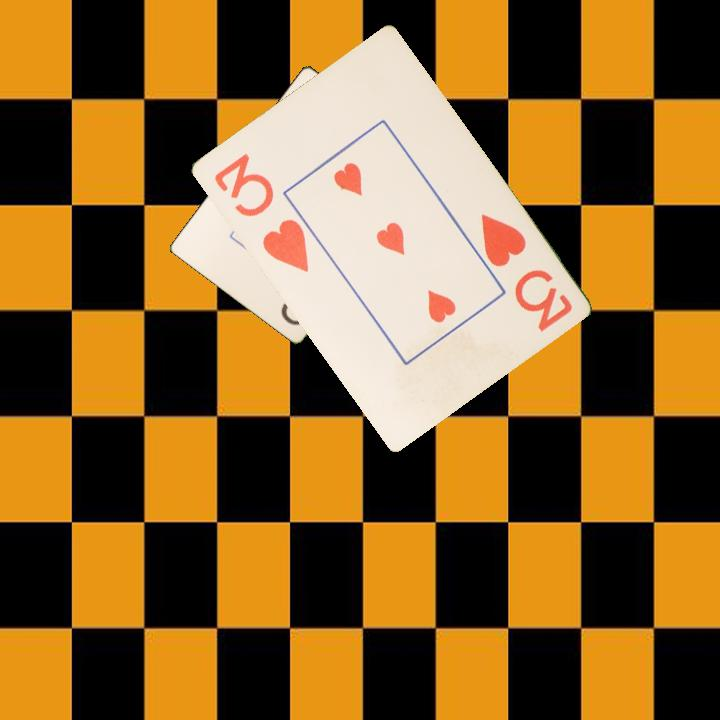3h: (209, 149, 312, 276), (476, 209, 575, 335)
